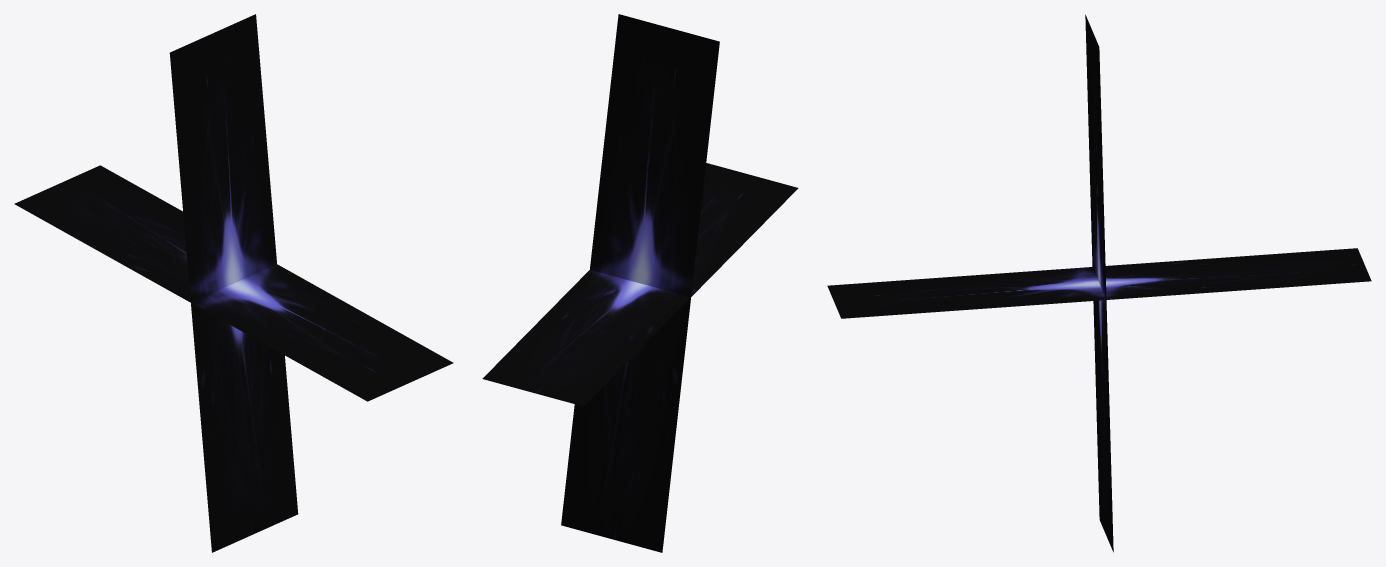
File: zombie_hit_fire_1.FBX
3 views of the same model, side by side, from view 1: azimuth 30°, elevation 25°; view 2: azimuth 150°, elevation 25°; view 3: azimuth 270°, elevation 25° (orthographic). The views are drawn at different scales.
Parts seen in each view (by area): view 1: 1_1; view 2: 1_1; view 3: 1_1.
Part boxes in pixels (box(x1,y1,x2,y2)): 1_1: box(14, 14, 453, 552); 1_1: box(482, 14, 798, 552); 1_1: box(827, 14, 1371, 552).
Bounding box in the file's own units: 0.4893 × 1.52 × 1.52.
